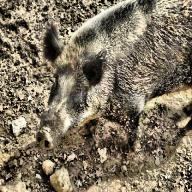boar: (21, 0, 191, 169)
